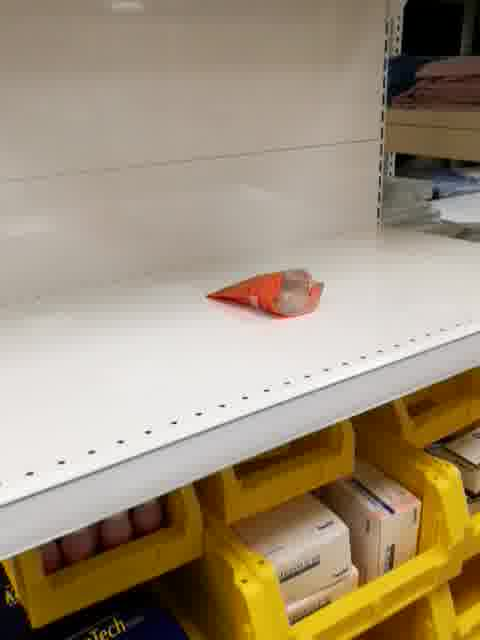whitechia: (203, 267, 325, 321)
